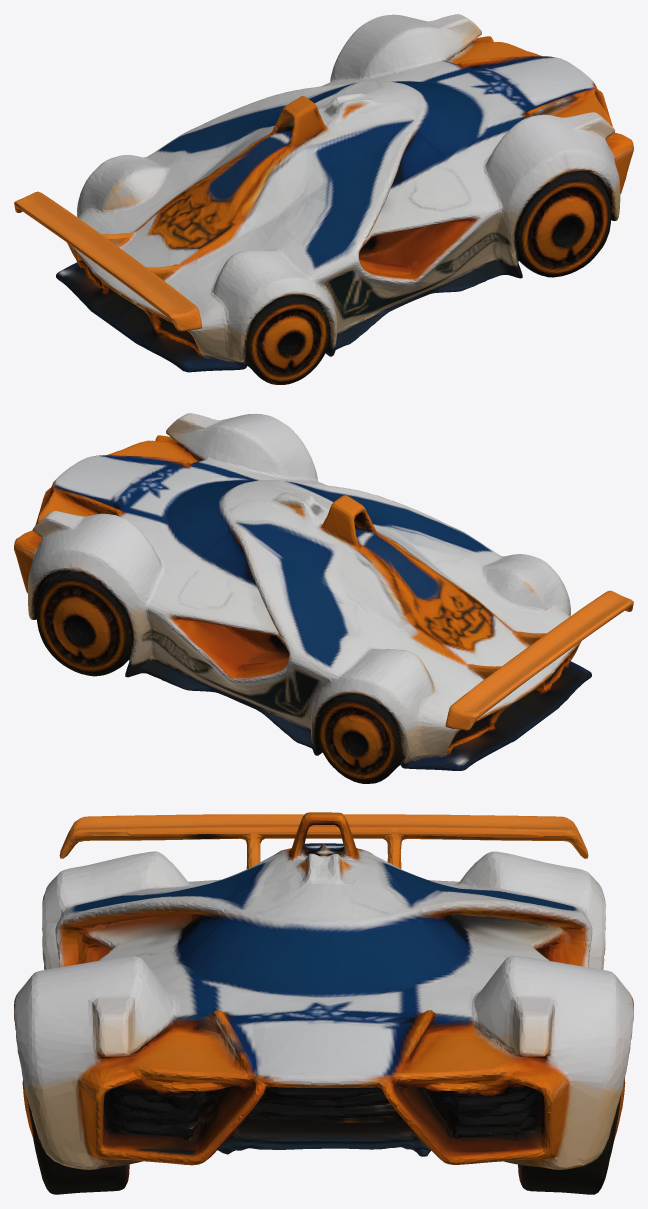
File: mach-speeder.obj
3 views of the same model, one above another, from view 1: azimuth 30°, elevation 25°; view 2: azimuth 150°, elevation 25°; view 3: azimuth 270°, elevation 25° (orthographic). The views are drawn at different scales.
Visible parts, largest first — view 1: material; view 2: material; view 3: material.
Part boxes in pixels (x1,y1,x2,y2): material: (14,14,633,384); material: (14,413,633,783); material: (14,812,633,1194).
Size of the model in its own units: 1.05 by 0.4121 by 0.7351.
1 material, 1 textured.
